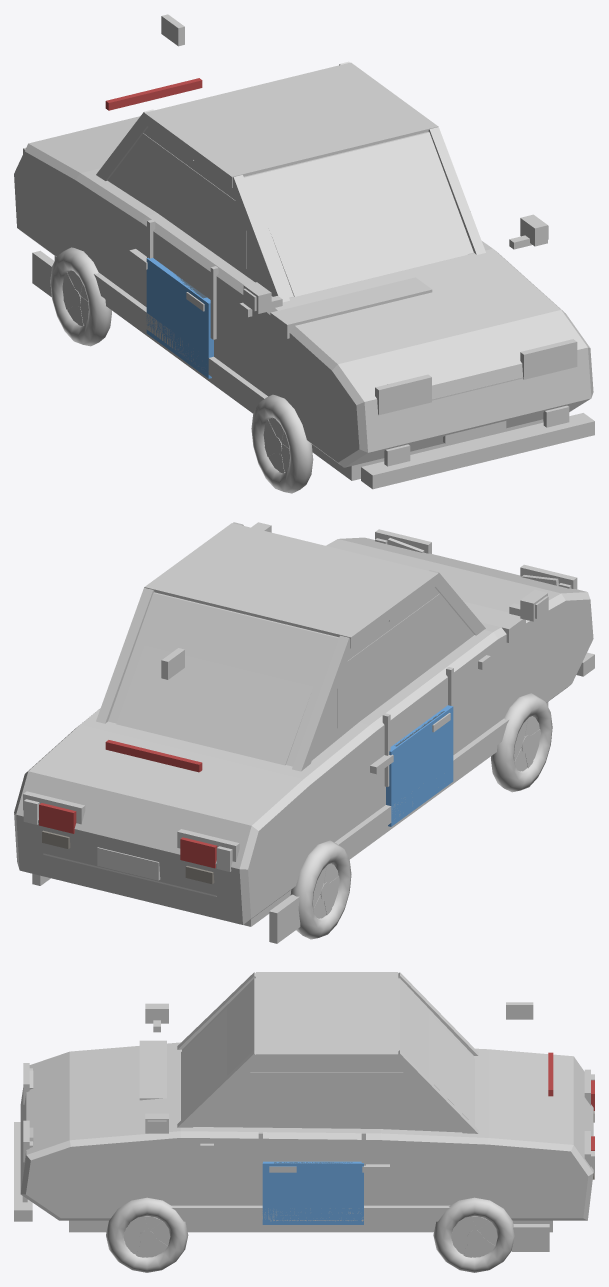
Rendered from car_sedan.glb.
3 views of the same model, one above another, from view 1: azimuth 30°, elevation 25°; view 2: azimuth 150°, elevation 25°; view 3: azimuth 270°, elevation 25° (orthographic). The views are drawn at different scales.
Parts seen in each view (by area): view 1: prop; view 2: prop; view 3: prop.
Part boxes in pixels (box(x1,y1,x2,y2)): prop: box(14, 14, 594, 493); prop: box(14, 522, 594, 943); prop: box(14, 972, 594, 1272).
Size of the model in its own units: 2.21 by 1.96 by 4.65.
